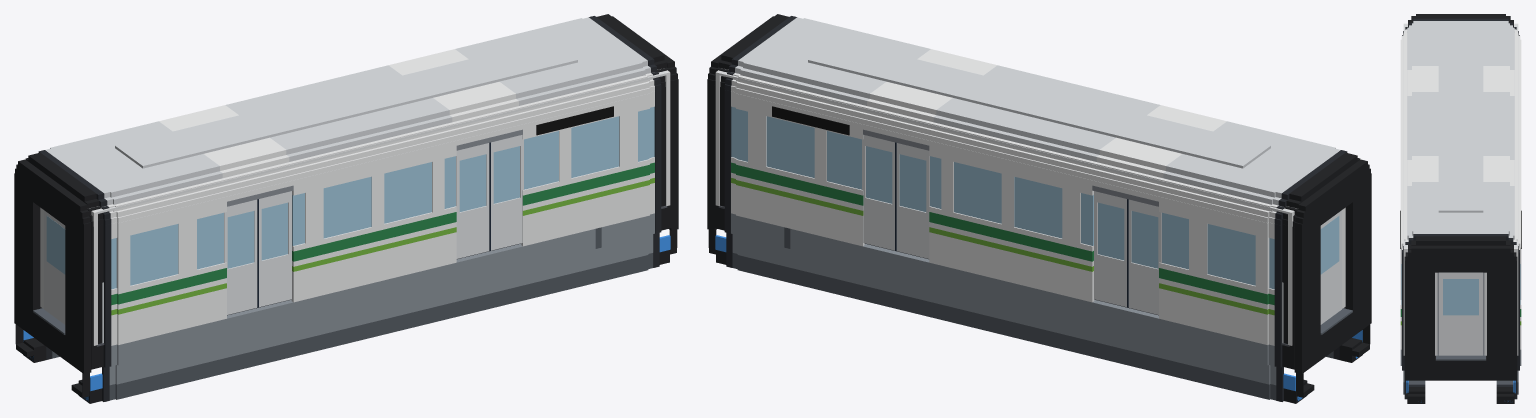
The model's file is ecobee_car.obj.
The picture shows the model from 3 angles, left to right: view 1: azimuth 30°, elevation 25°; view 2: azimuth 150°, elevation 25°; view 3: azimuth 270°, elevation 25°; orthographic projection. The views are drawn at different scales.
Parts seen in each view (by area): view 1: SHELL, SHELL_roof, SHELL_diaphragm, EXTERNAL_DOOR_10_CG_DR2_TOGGLE_TL_-0.64_X, EXTERNAL_DOOR_4_CG_DR1_TOGGLE_TL_-0.64_X, EXTERNAL_DOOR_5_CG_DR1_TOGGLE_TL_0.64_X, EXTERNAL_DOOR_11_CG_DR2_TOGGLE_TL_0.64_X, CONNECTING_DOOR_1_CG_CR_TOGGLE_TL_0.98_Z, SHELL_ceiling, SHELL_end, SHELL_sign; view 2: SHELL, SHELL_roof, SHELL_diaphragm, EXTERNAL_DOOR_13_CG_DL2_TOGGLE_TL_-0.64_X, EXTERNAL_DOOR_7_CG_DL1_TOGGLE_TL_-0.64_X, EXTERNAL_DOOR_8_CG_DL1_TOGGLE_TL_0.64_X, EXTERNAL_DOOR_14_CG_DL2_TOGGLE_TL_0.64_X, CONNECTING_DOOR_1_CG_CR_TOGGLE_TL_0.98_Z, SHELL_ceiling, SHELL_end, SHELL_sign; view 3: SHELL, SHELL_diaphragm, SHELL_roof, CONNECTING_DOOR_2_CG_CF_TOGGLE_TL_0.98_Z, SHELL_end, SHELL_ceiling, SHELL_floor, SHELL_gangway.
Part boxes in pixels (bbox=[...]): SHELL: bbox=[23, 14, 671, 403]; SHELL_roof: bbox=[115, 39, 577, 168]; SHELL_diaphragm: bbox=[14, 16, 678, 397]; EXTERNAL_DOOR_10_CG_DR2_TOGGLE_TL_-0.64_X: bbox=[456, 142, 490, 258]; EXTERNAL_DOOR_4_CG_DR1_TOGGLE_TL_-0.64_X: bbox=[224, 199, 258, 314]; EXTERNAL_DOOR_5_CG_DR1_TOGGLE_TL_0.64_X: bbox=[259, 191, 291, 307]; EXTERNAL_DOOR_11_CG_DR2_TOGGLE_TL_0.64_X: bbox=[491, 135, 523, 250]; CONNECTING_DOOR_1_CG_CR_TOGGLE_TL_0.98_Z: bbox=[44, 210, 65, 324]; SHELL_ceiling: bbox=[95, 69, 666, 213]; SHELL_end: bbox=[40, 70, 670, 345]; SHELL_sign: bbox=[536, 106, 613, 135]; SHELL: bbox=[714, 14, 1362, 403]; SHELL_roof: bbox=[808, 39, 1270, 168]; SHELL_diaphragm: bbox=[707, 16, 1371, 397]; EXTERNAL_DOOR_13_CG_DL2_TOGGLE_TL_-0.64_X: bbox=[895, 142, 929, 258]; EXTERNAL_DOOR_7_CG_DL1_TOGGLE_TL_-0.64_X: bbox=[1127, 199, 1161, 314]; EXTERNAL_DOOR_8_CG_DL1_TOGGLE_TL_0.64_X: bbox=[1094, 191, 1126, 307]; EXTERNAL_DOOR_14_CG_DL2_TOGGLE_TL_0.64_X: bbox=[862, 135, 894, 250]; CONNECTING_DOOR_1_CG_CR_TOGGLE_TL_0.98_Z: bbox=[1320, 210, 1341, 324]; SHELL_ceiling: bbox=[718, 69, 1291, 213]; SHELL_end: bbox=[715, 70, 1345, 345]; SHELL_sign: bbox=[772, 106, 849, 135]; SHELL: bbox=[1400, 14, 1521, 403]; SHELL_diaphragm: bbox=[1405, 16, 1516, 400]; SHELL_roof: bbox=[1438, 40, 1483, 212]; CONNECTING_DOOR_2_CG_CF_TOGGLE_TL_0.98_Z: bbox=[1438, 272, 1483, 355]; SHELL_end: bbox=[1403, 23, 1518, 355]; SHELL_ceiling: bbox=[1403, 24, 1518, 247]; SHELL_floor: bbox=[1437, 272, 1484, 353]; SHELL_gangway: bbox=[1436, 354, 1485, 360].
Size of the model in its own units: 12.32 by 4.07 by 2.72.
Materials: 1 (1 with a texture image).
